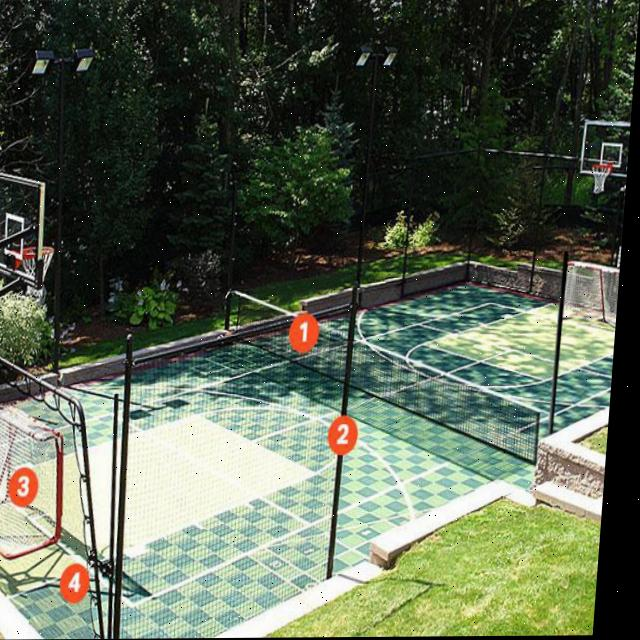hoop: (16, 247, 55, 297), (590, 163, 613, 193)
